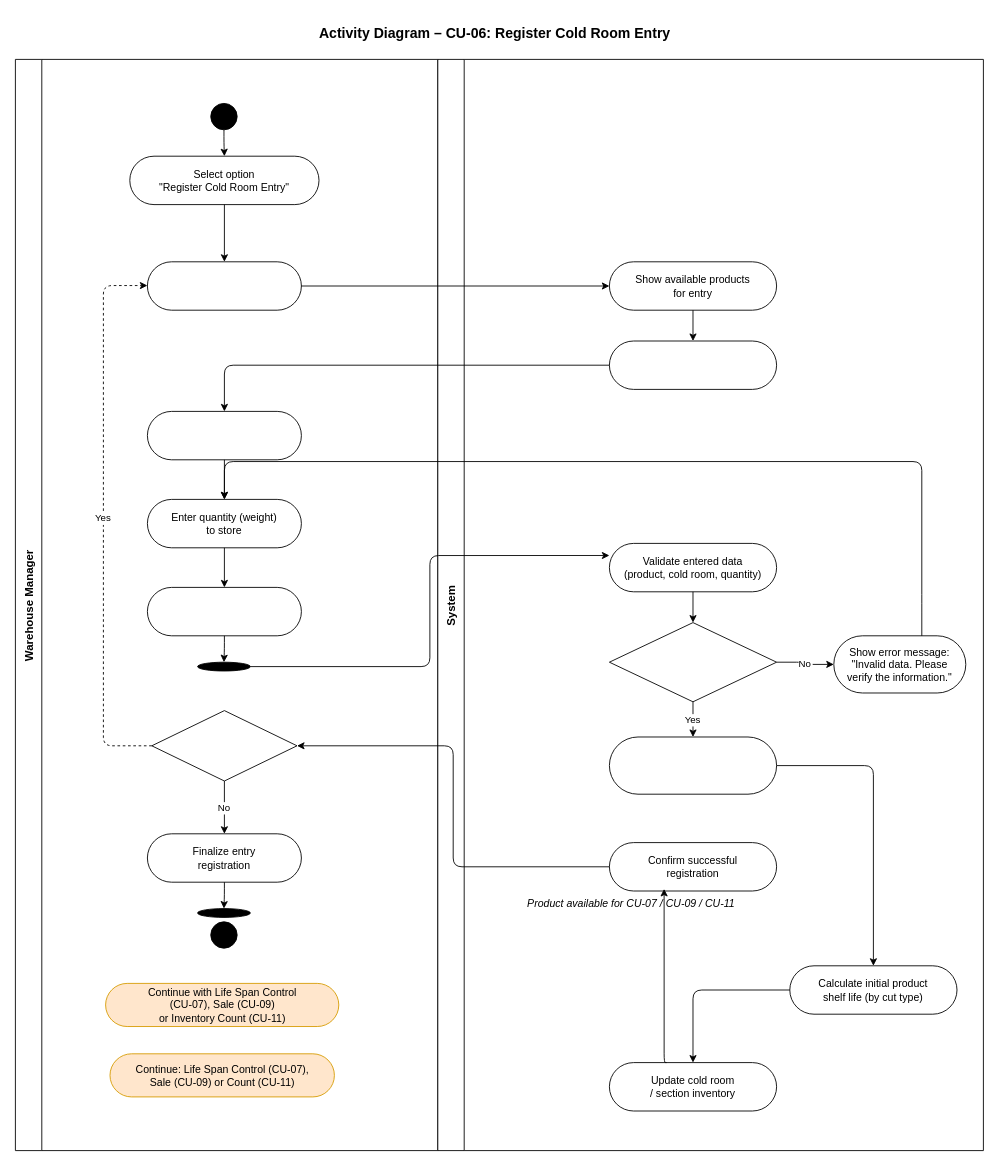
Image size: 999x1166. Some labels were removed from this diagram. Here are the shapes that lost their labels. From the top down, the centre of each, then its label:
At point (224, 285): "Select classified or weighed product available".
At point (693, 364): "Show enabled cold rooms / sections".
At point (224, 435): "Select target cold room / section".
At point (224, 611): "Confirm entry".
At point (693, 662): "Is the data valid?".
At point (224, 745): "Register another entry?".
At point (693, 765): "Register entry with: date/time, product, quantity, cold room/section".
